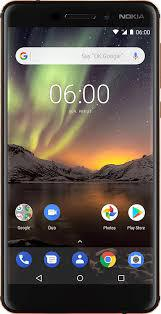Smartphone: (4, 2, 157, 314)
